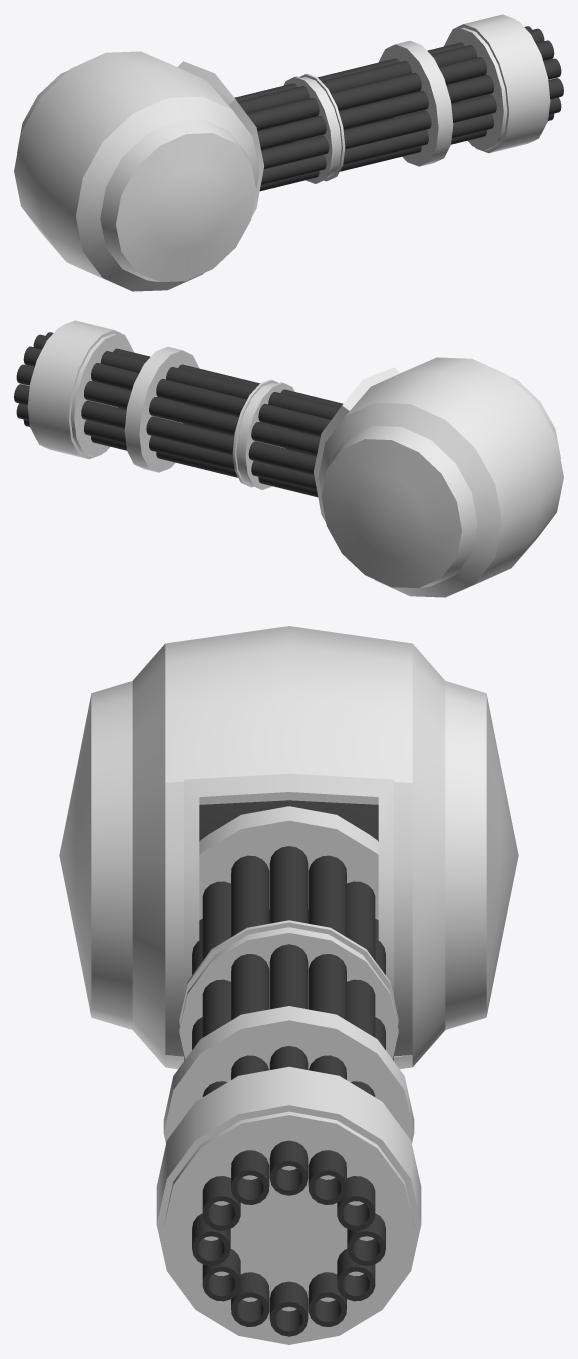
Rendered from SM_Gunner.fbx.
3 renders of one model, top to bottom at view 1: azimuth 30°, elevation 25°; view 2: azimuth 150°, elevation 25°; view 3: azimuth 270°, elevation 25°, orthographic. The views are drawn at different scales.
Visible parts, largest first — view 1: Gunner; view 2: Gunner; view 3: Gunner.
Part boxes in pixels (left/top/right/bottom): Gunner: left=14, top=14, right=563, bottom=291; Gunner: left=14, top=320, right=563, bottom=597; Gunner: left=59, top=626, right=518, bottom=1344.
Bounding box in the file's own units: 134 × 53.17 × 53.17.
